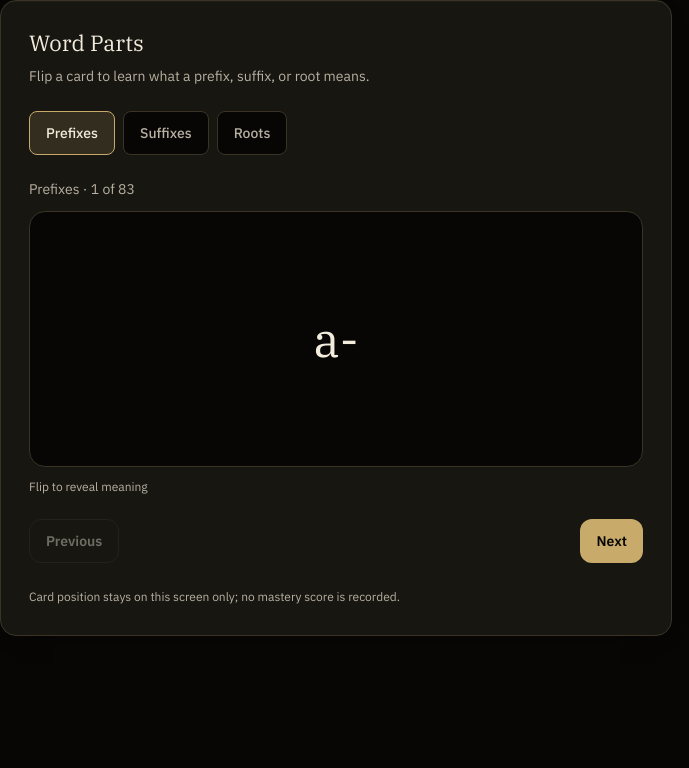
Scenario: WordPartFlashcards › filters groups, flips to the meaning, and resets face when moving
Expected: the text "a-" is shown, x1=314 y1=315 x2=359 y2=363
Click the button "Roots" at (252, 133), box x1=217 y1=111 x2=287 y2=155
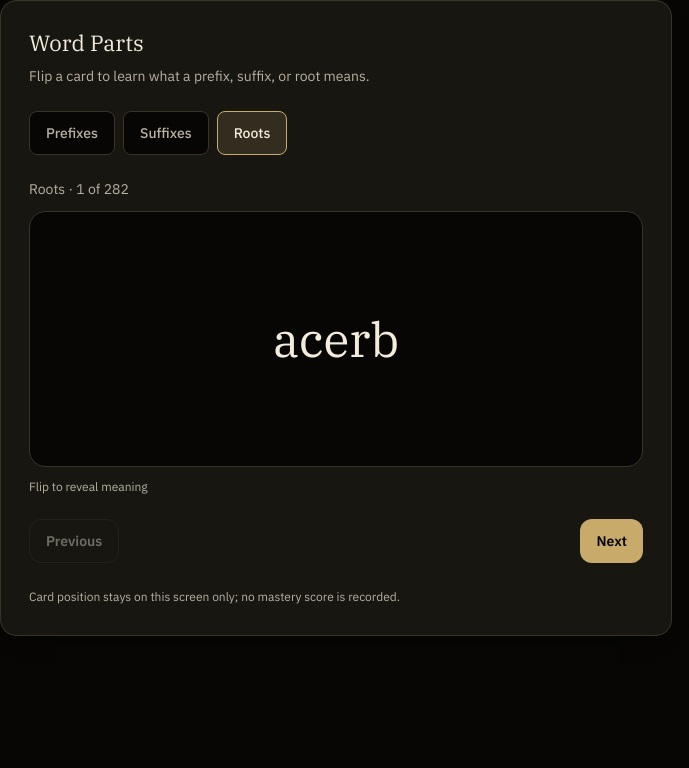
Expected: the text "acerb" is shown, x1=273 y1=315 x2=399 y2=363
Click the button with aria-label "Word part acerb" at (336, 339), box x1=29 y1=211 x2=643 y2=467
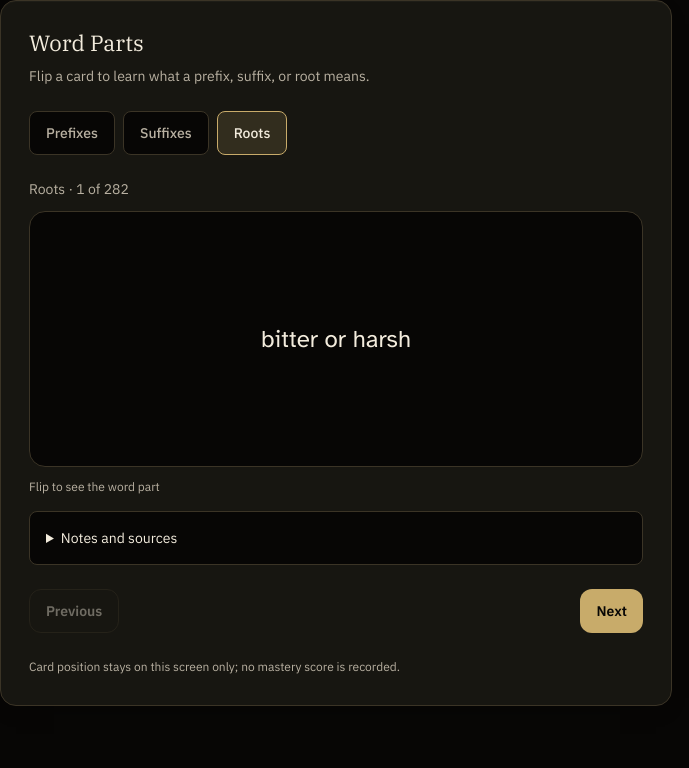
Expected: the text "bitter or harsh" is shown, x1=261 y1=323 x2=411 y2=355
Click the heading "Notes and sources" at (119, 538), box x1=61 y1=529 x2=177 y2=547
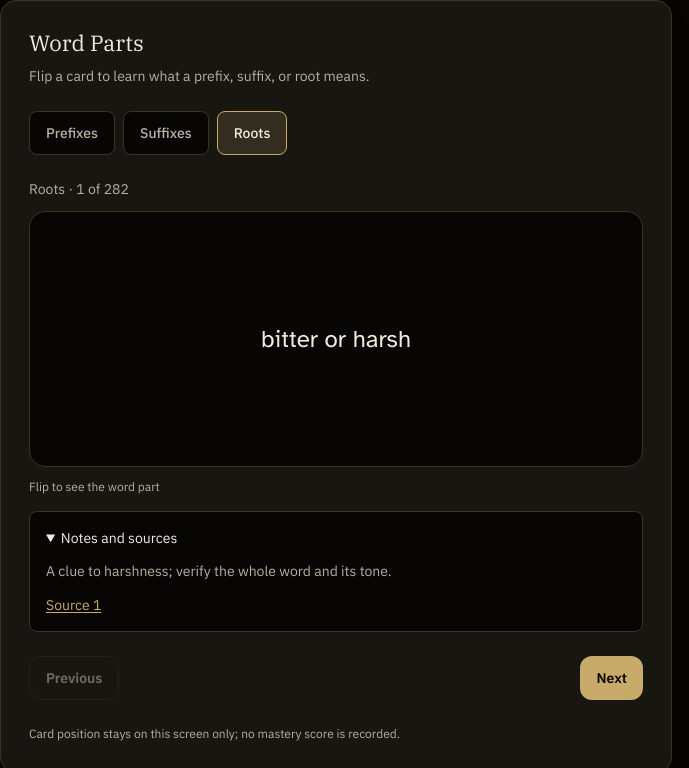
Expected: the link "Source 1" is shown, x1=46 y1=596 x2=101 y2=614
Click the button "Next" at (612, 678), box x1=580 y1=656 x2=643 y2=700
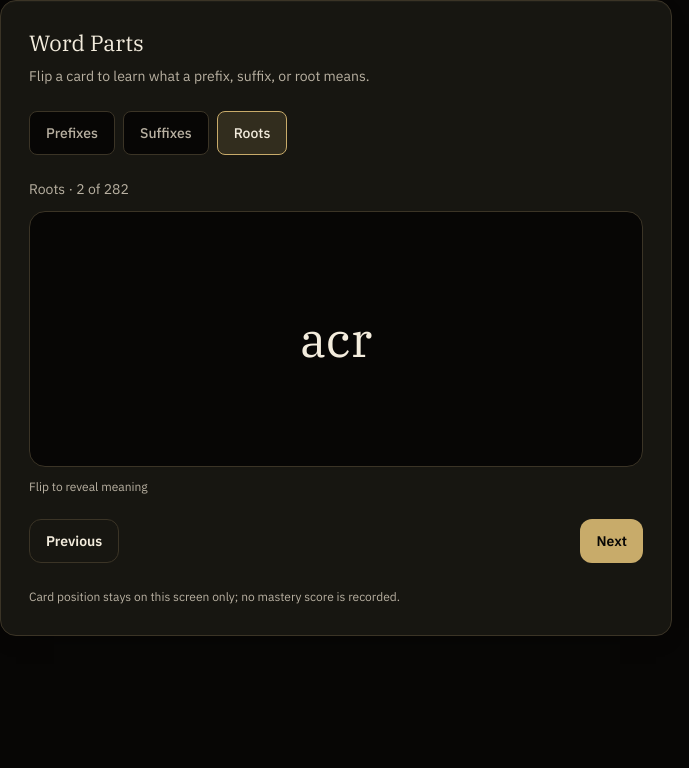
Expected: the text "acr" is shown, x1=300 y1=315 x2=372 y2=363
Expected: the button "bitter or harsh" is gone
Click the button "Suffixes" at (166, 133), box x1=123 y1=111 x2=209 y2=155
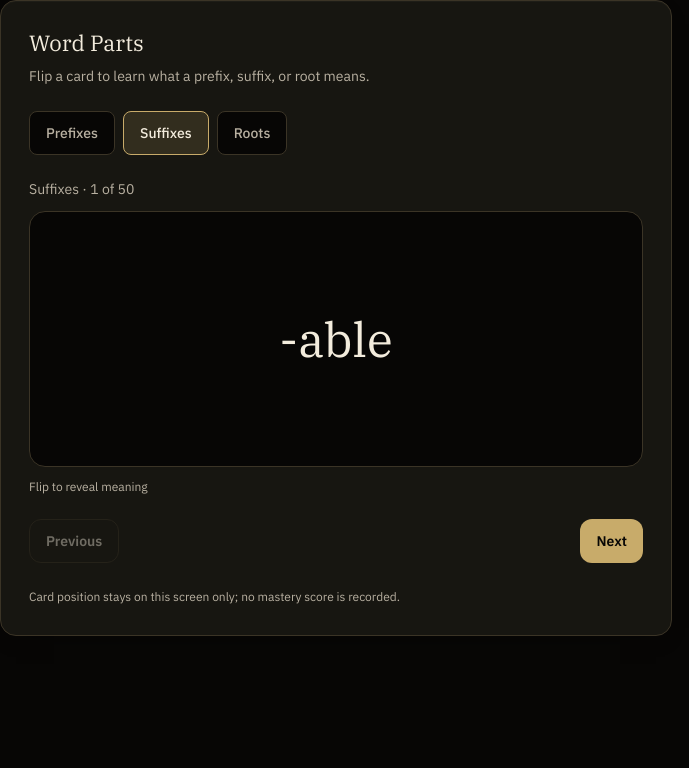
Expected: the text "-able" is shown, x1=279 y1=315 x2=393 y2=363
Expected: the text "Suffixes · 1 of 50" is shown, x1=29 y1=180 x2=134 y2=198
